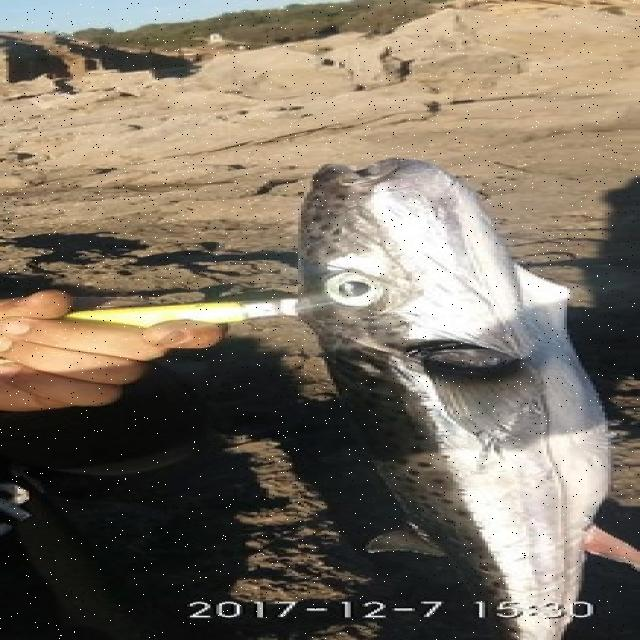Balik: (299, 159, 610, 639)
